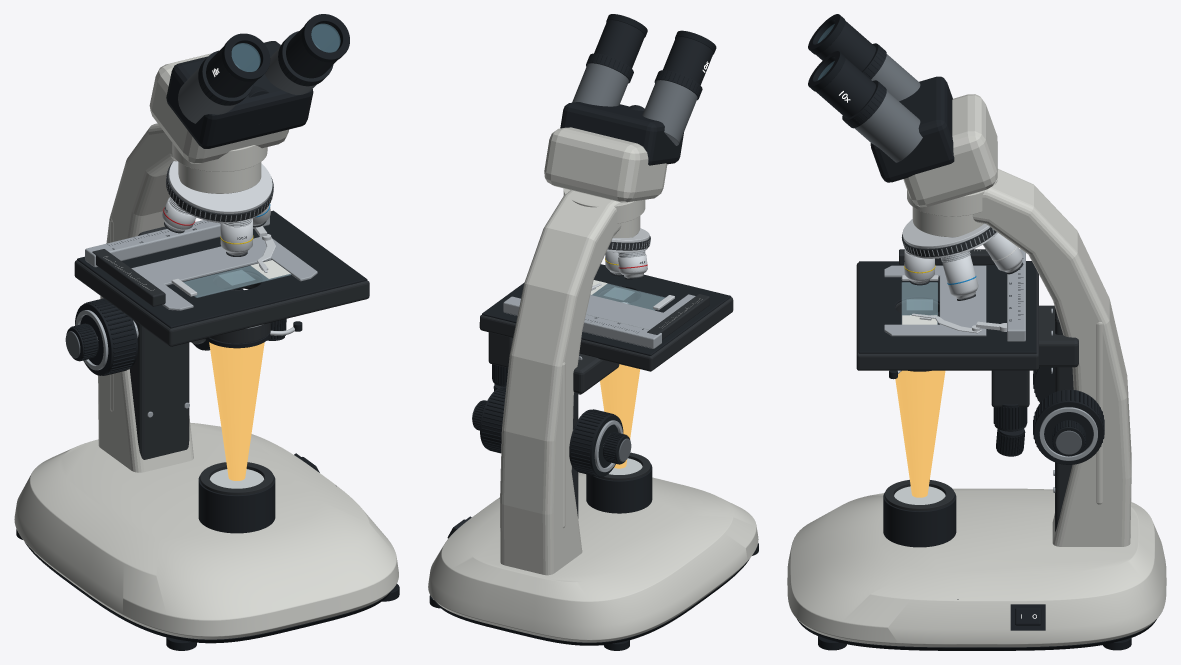
The model's file is microscopi-optic-complet.glb.
The picture shows the model from 3 angles, left to right: view 1: azimuth 30°, elevation 25°; view 2: azimuth 150°, elevation 25°; view 3: azimuth 270°, elevation 25°; orthographic projection. The views are drawn at different scales.
Visible parts, largest first — view 1: MIC_Base, MIC_Braç, MIC_Platina_Superficie, MIC_Columna, MIC_Platina, MIC_Capçal_Binocular, MIC_Feix_Llum_Visible, MIC_Guia_Mostra, MIC_Font_Llum_Carcassa, MIC_Capçal, MIC_Carro_X_Guia, MIC_Revolver_Cos (+22 smaller); view 2: MIC_Base, MIC_Braç, MIC_Capçal, MIC_Platina_Superficie, MIC_Capçal_Binocular, MIC_Platina, MIC_Font_Llum_Carcassa, MIC_Tub_Binocular_Esquerre, MIC_Feix_Llum_Visible, MIC_Enfocament_Macro_Esquerre_Cos, MIC_Tub_Binocular_Dret, MIC_Guia_Mostra (+16 smaller); view 3: MIC_Base, MIC_Braç, MIC_Platina_Superficie, MIC_Capçal, MIC_Capçal_Binocular, MIC_Feix_Llum_Visible, MIC_Platina, MIC_Guia_Mostra, MIC_Font_Llum_Carcassa, MIC_Tub_Binocular_Dret, MIC_Enfocament_Macro_Dret_Cos, MIC_Ocular_Dret_Cos (+25 smaller).
Boxes of the visible parts, <box> form: MIC_Base: <box>14,423,398,639</box>; MIC_Braç: <box>98,123,193,472</box>; MIC_Platina_Superficie: <box>77,210,367,328</box>; MIC_Columna: <box>129,226,189,459</box>; MIC_Platina: <box>74,260,369,346</box>; MIC_Capçal_Binocular: <box>166,41,313,148</box>; MIC_Feix_Llum_Visible: <box>209,342,264,480</box>; MIC_Guia_Mostra: <box>131,237,317,310</box>; MIC_Font_Llum_Carcassa: <box>198,474,275,533</box>; MIC_Capçal: <box>149,53,289,163</box>; MIC_Carro_X_Guia: <box>85,217,269,267</box>; MIC_Revolver_Cos: <box>168,161,272,223</box>; MIC_Base: <box>428,472,758,642</box>; MIC_Braç: <box>500,190,621,575</box>; MIC_Capçal: <box>544,127,667,202</box>; MIC_Platina_Superficie: <box>482,264,731,355</box>; MIC_Capçal_Binocular: <box>560,102,683,165</box>; MIC_Platina: <box>479,288,733,371</box>; MIC_Font_Llum_Carcassa: <box>586,462,652,513</box>; MIC_Tub_Binocular_Esquerre: <box>642,80,697,145</box>; MIC_Feix_Llum_Visible: <box>600,364,640,468</box>; MIC_Enfocament_Macro_Esquerre_Cos: <box>569,409,623,476</box>; MIC_Tub_Binocular_Dret: <box>572,63,628,106</box>; MIC_Guia_Mostra: <box>586,294,695,329</box>; MIC_Base: <box>787,488,1166,647</box>; MIC_Braç: <box>972,169,1131,546</box>; MIC_Platina_Superficie: <box>858,261,1036,353</box>; MIC_Capçal: <box>903,94,997,207</box>; MIC_Capçal_Binocular: <box>870,76,954,182</box>; MIC_Feix_Llum_Visible: <box>895,370,945,497</box>; MIC_Platina: <box>856,263,1038,370</box>; MIC_Guia_Mostra: <box>884,265,986,336</box>; MIC_Font_Llum_Carcassa: <box>883,492,956,547</box>; MIC_Tub_Binocular_Dret: <box>854,91,922,162</box>; MIC_Enfocament_Macro_Dret_Cos: <box>1034,389,1103,464</box>; MIC_Ocular_Dret_Cos: <box>816,58,875,118</box>.
Bounding box in the file's own units: 0.2044 × 0.4252 × 0.2599.
